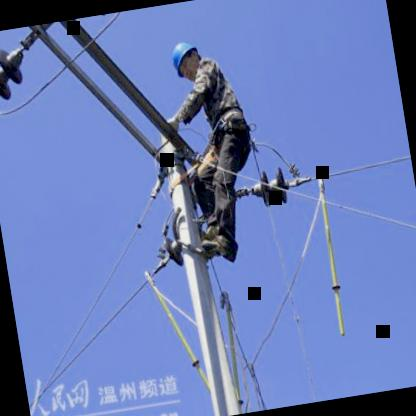helmet: (165, 34, 206, 84)
